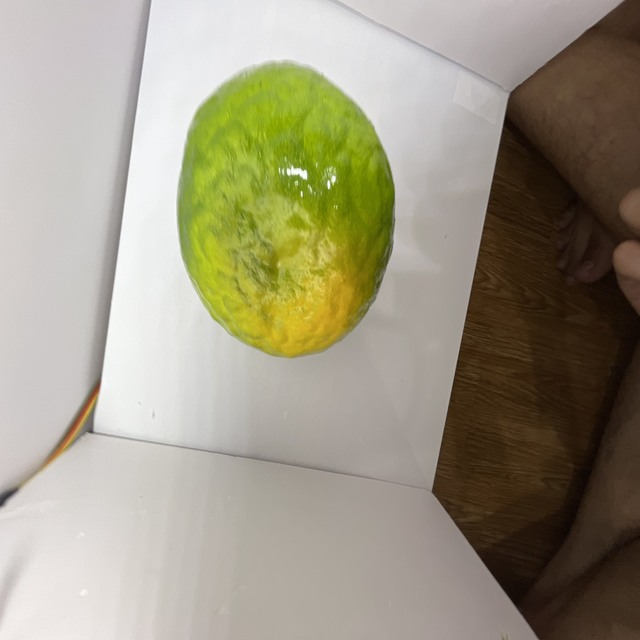Cam xanh: (171, 57, 403, 362)
